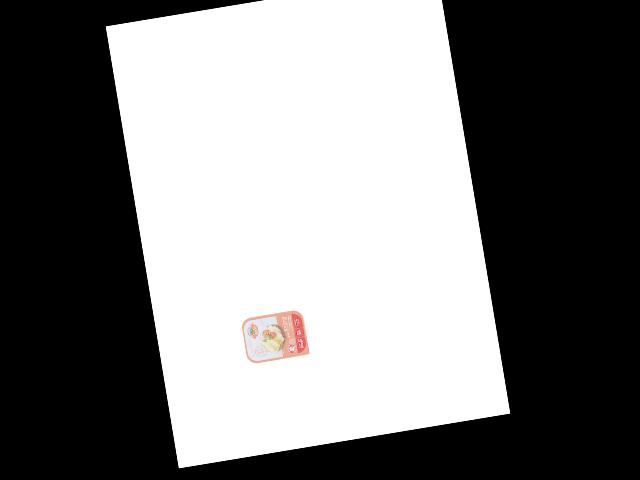cheese: (238, 305, 313, 365)
